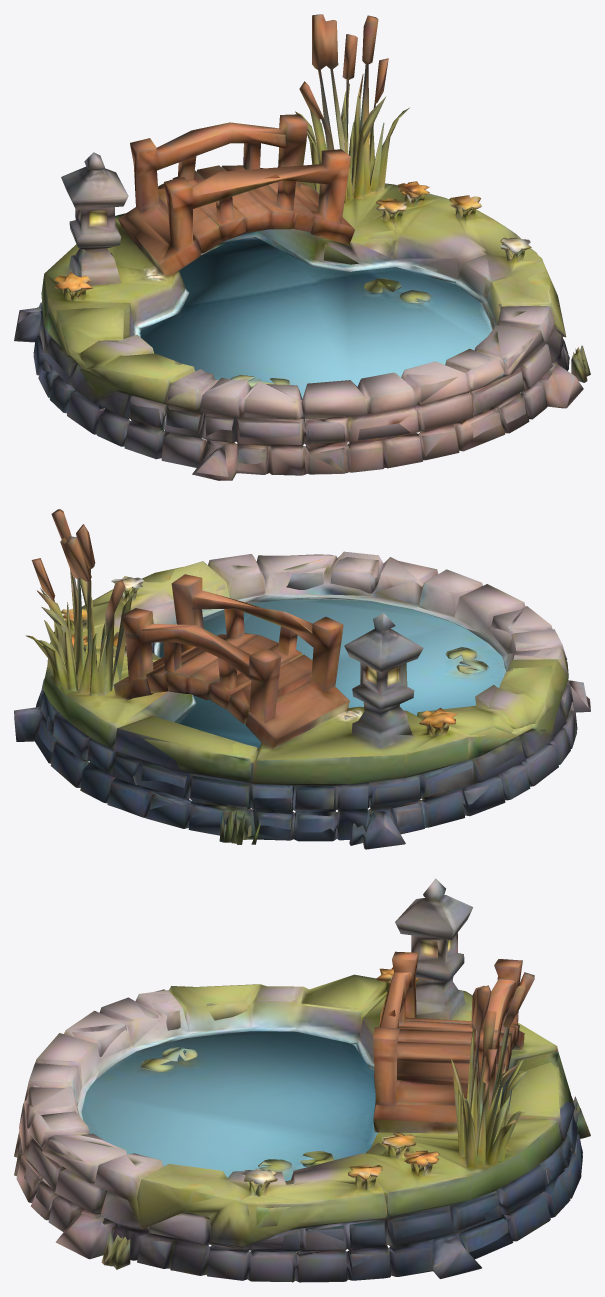
Rendered from chitang-3.glb.
The picture shows the model from 3 angles, top to bottom: view 1: azimuth 30°, elevation 25°; view 2: azimuth 150°, elevation 25°; view 3: azimuth 270°, elevation 25°; orthographic projection. The views are drawn at different scales.
Parts seen in each view (by area): view 1: node_0; view 2: node_0; view 3: node_0.
Part boxes in pixels (box(x1,y1,x2,y2)): node_0: box(14, 14, 590, 480); node_0: box(14, 509, 590, 849); node_0: box(14, 878, 590, 1282).
Bounding box in the file's own units: 0.9782 × 0.4929 × 0.991.
1 material, 1 textured.
